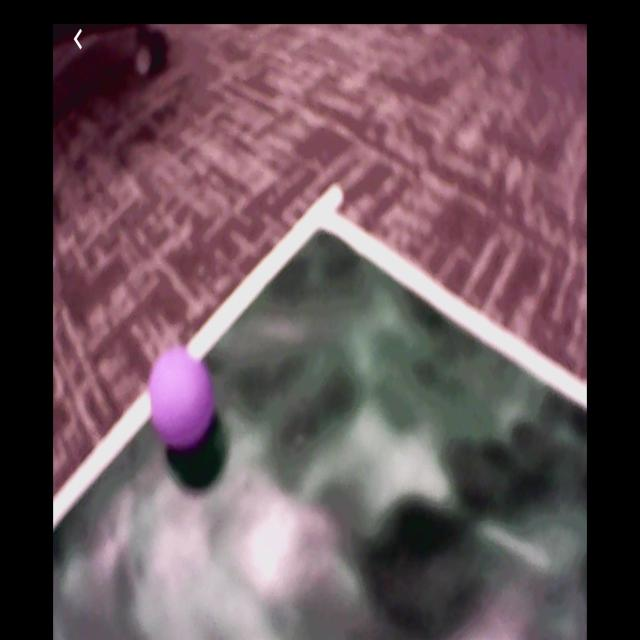ball: (149, 348, 216, 446)
